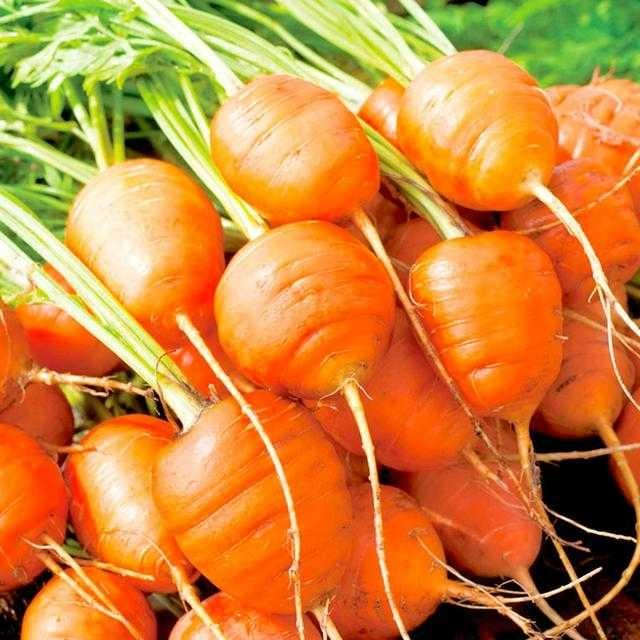faulty: (123, 399, 364, 622), (177, 212, 394, 431), (398, 234, 575, 447), (42, 163, 227, 346), (212, 71, 390, 236), (407, 71, 568, 226), (61, 421, 208, 580)
